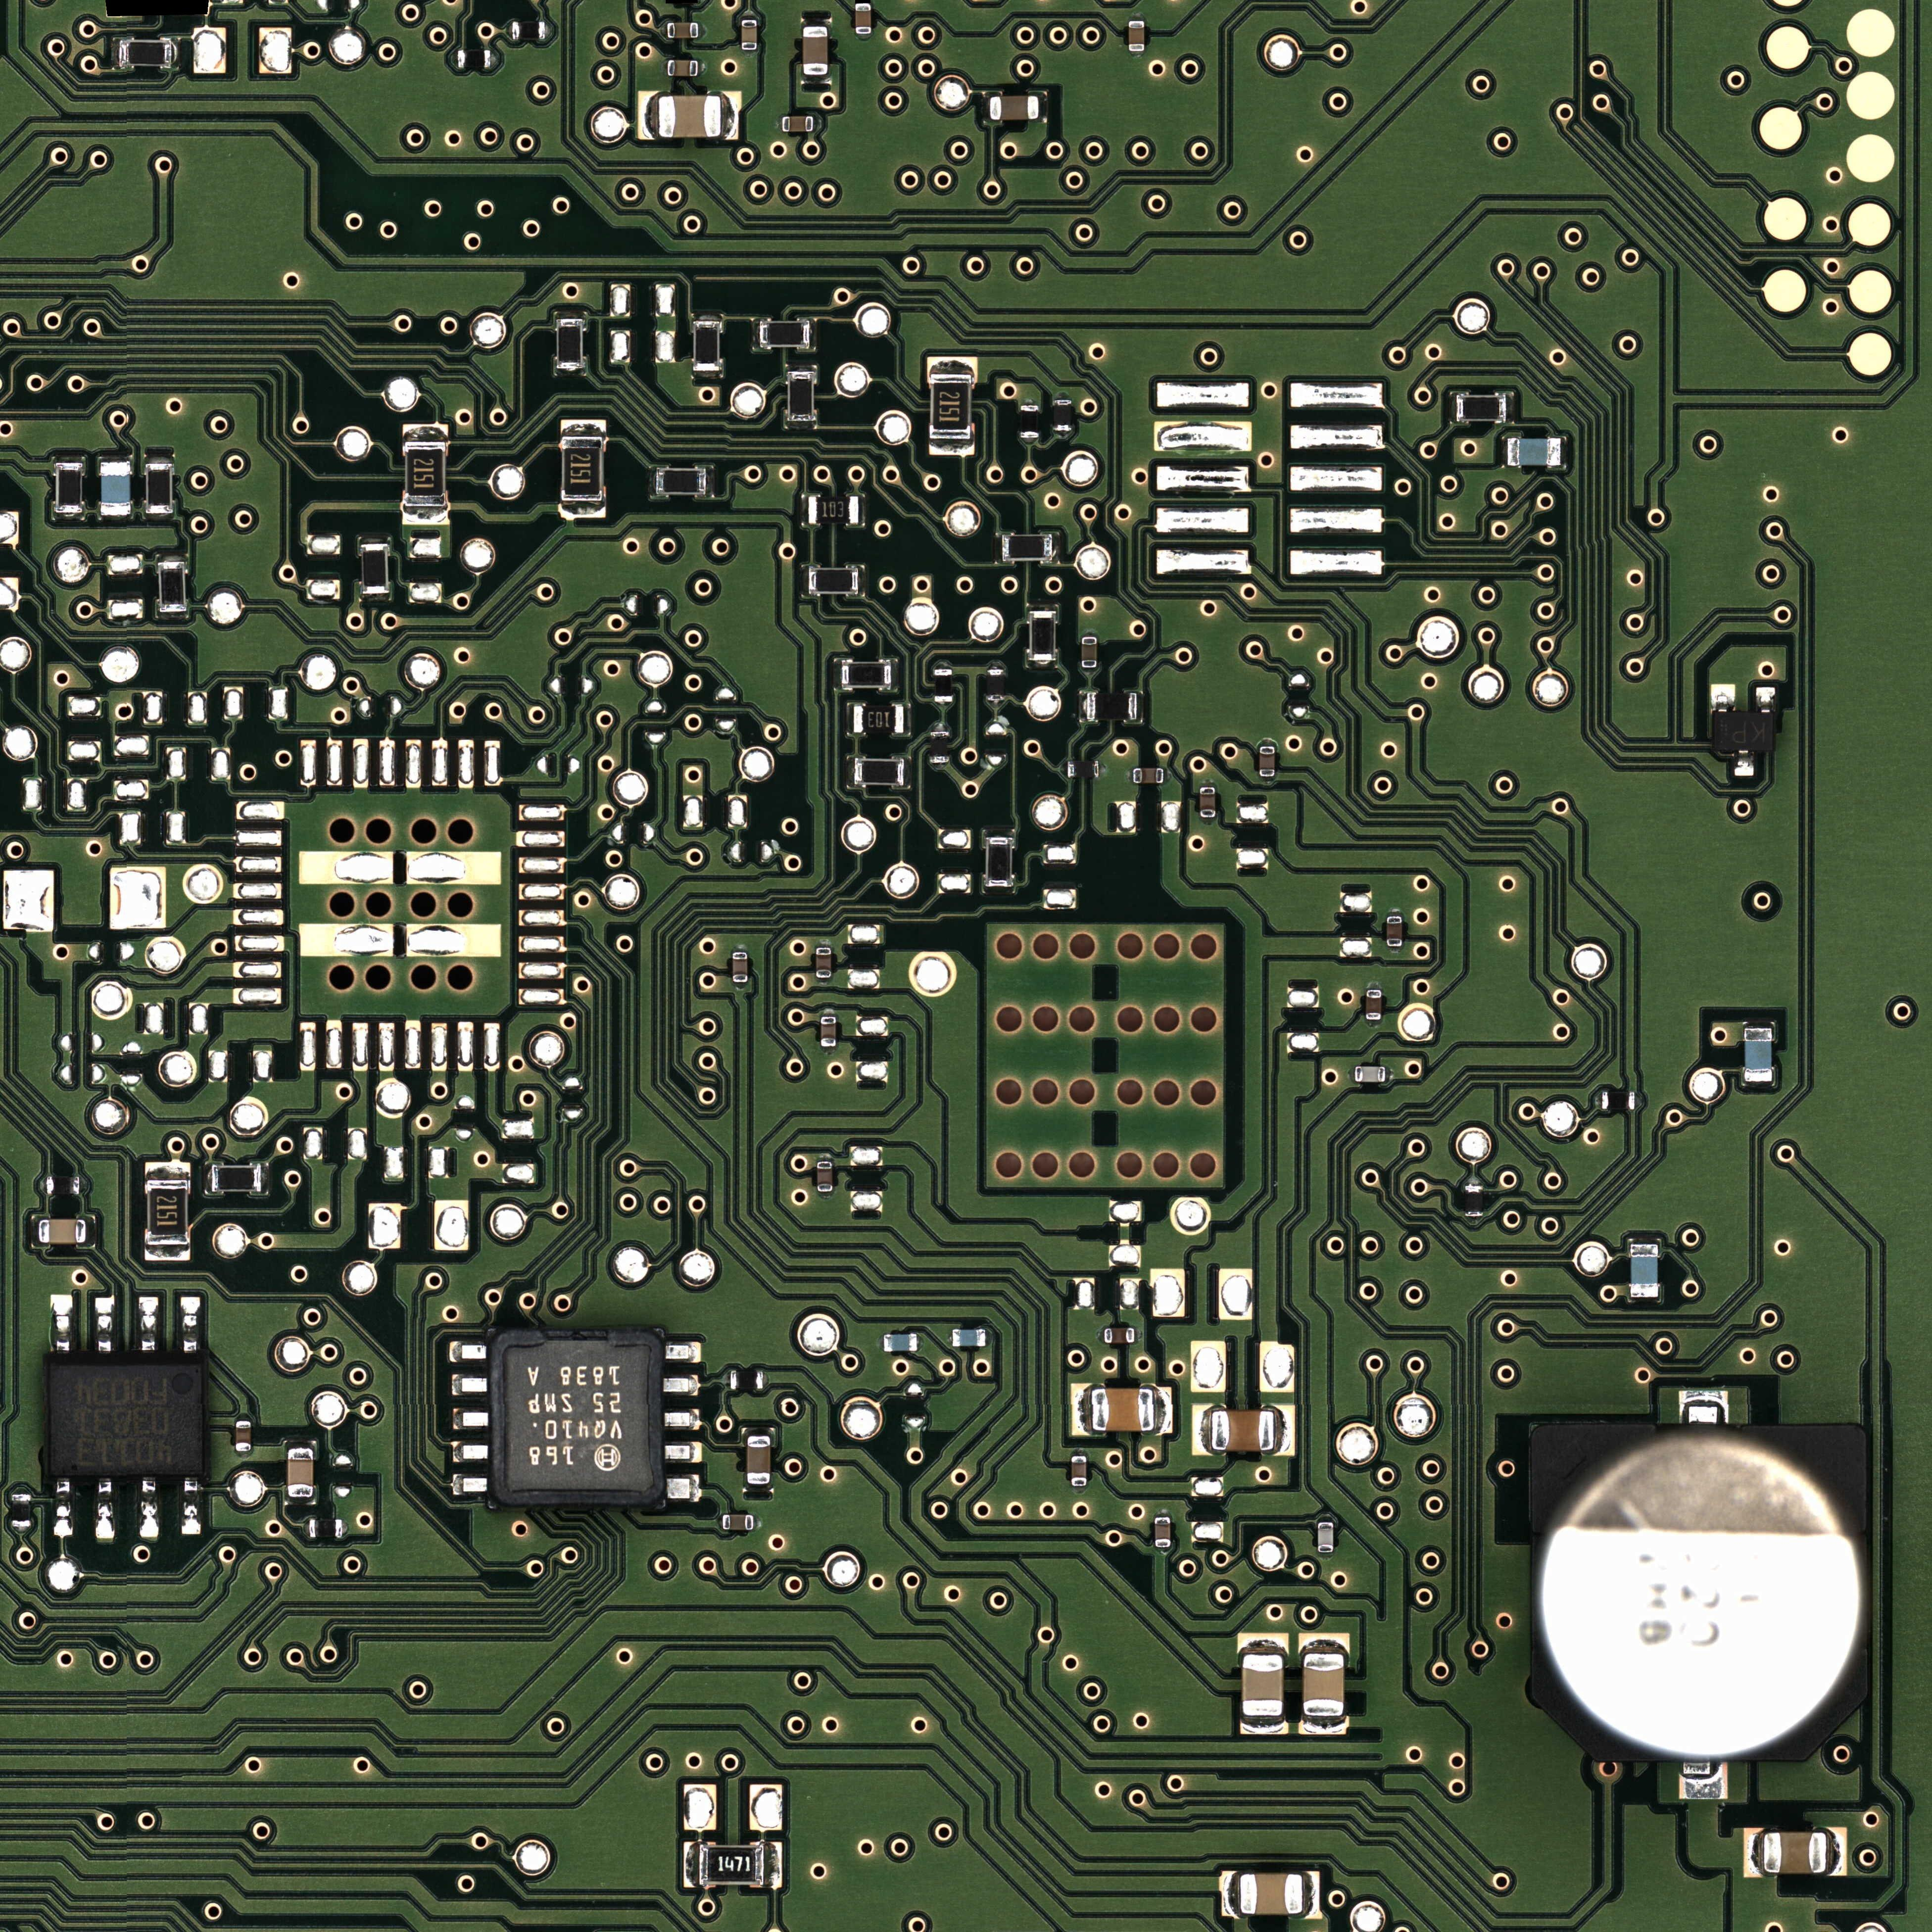Package: (1531, 1425, 1872, 1760), (489, 1331, 664, 1505), (48, 1364, 205, 1476), (930, 374, 971, 439), (404, 442, 445, 506), (146, 1180, 188, 1245), (1091, 1389, 1154, 1431), (562, 436, 602, 501), (699, 1844, 764, 1885), (1763, 1833, 1827, 1873), (1242, 1654, 1283, 1716), (1303, 1653, 1344, 1716), (1211, 1410, 1274, 1451), (659, 96, 721, 137), (1240, 1874, 1303, 1914), (1713, 713, 1774, 751), (101, 462, 130, 515), (1745, 1028, 1772, 1081), (1507, 438, 1560, 465), (1631, 1245, 1658, 1297), (854, 705, 904, 733), (809, 496, 859, 524), (1087, 693, 1136, 721), (120, 40, 171, 66), (211, 1165, 261, 1192), (1003, 535, 1052, 561), (1457, 395, 1506, 421), (760, 322, 810, 347), (362, 544, 387, 593), (160, 562, 185, 612), (842, 662, 891, 688), (288, 1449, 313, 1497), (147, 463, 172, 513), (657, 469, 706, 494), (788, 372, 814, 421), (56, 463, 81, 512), (1030, 611, 1055, 660), (990, 96, 1039, 120), (987, 837, 1011, 887), (809, 569, 858, 593), (855, 760, 904, 784), (557, 319, 581, 368), (803, 27, 827, 75), (695, 321, 719, 371), (39, 1219, 86, 1244), (747, 1436, 771, 1484), (730, 1370, 764, 1390), (458, 49, 490, 69), (12, 1494, 31, 1527), (512, 21, 545, 40), (934, 669, 953, 702), (309, 1519, 342, 1538), (46, 1177, 80, 1195), (1020, 405, 1039, 438), (884, 1334, 917, 1352), (1602, 1092, 1635, 1110), (952, 1329, 986, 1347), (1465, 1185, 1483, 1217), (986, 669, 1004, 701), (930, 731, 948, 763), (1054, 399, 1072, 431), (1067, 761, 1099, 778), (723, 1514, 754, 1530), (668, 60, 698, 76), (1128, 21, 1145, 51), (1355, 1066, 1385, 1082), (668, 22, 698, 38), (236, 1421, 251, 1451), (1387, 916, 1402, 946), (1082, 637, 1097, 668), (741, 20, 757, 49), (1259, 747, 1275, 776), (1155, 1517, 1170, 1547), (1366, 990, 1382, 1019), (782, 116, 813, 132), (817, 947, 832, 977), (732, 952, 748, 982), (1133, 768, 1163, 783), (818, 1161, 833, 1191), (1200, 787, 1215, 817), (1105, 1328, 1134, 1343), (1318, 1522, 1333, 1552), (1071, 1456, 1087, 1486), (821, 1017, 836, 1047), (856, 4, 870, 34), (918, 1387, 924, 1424)
Solder: (1679, 1763, 1727, 1799), (1679, 1390, 1728, 1422), (53, 1480, 73, 1539), (52, 1294, 72, 1353), (95, 1480, 114, 1540), (181, 1479, 201, 1536), (140, 1479, 159, 1539), (181, 1296, 200, 1353), (96, 1297, 114, 1353), (139, 1297, 157, 1352), (1071, 1383, 1090, 1436), (1238, 1635, 1288, 1654), (1744, 1828, 1764, 1878), (1299, 1634, 1350, 1653), (1275, 1405, 1295, 1455), (1827, 1827, 1846, 1876), (666, 1475, 700, 1501), (638, 91, 657, 140), (1192, 1405, 1210, 1455), (722, 92, 739, 140), (1300, 1716, 1348, 1734), (402, 507, 449, 525), (1155, 1387, 1172, 1434), (1240, 1716, 1287, 1734), (765, 1842, 782, 1888), (1221, 1871, 1239, 1917), (928, 357, 976, 373), (663, 1375, 700, 1396), (1304, 1871, 1320, 1919), (452, 1475, 488, 1496), (665, 1408, 701, 1430), (403, 424, 448, 441), (145, 1162, 191, 1179), (453, 1408, 489, 1429), (560, 419, 606, 435), (451, 1375, 487, 1396), (666, 1341, 701, 1362), (450, 1342, 487, 1362), (452, 1442, 489, 1462), (665, 1442, 702, 1462), (929, 440, 974, 456), (560, 503, 606, 519), (1710, 684, 1736, 712), (145, 1246, 191, 1261), (683, 1842, 698, 1888), (1734, 750, 1754, 776), (1756, 687, 1775, 713), (86, 1216, 95, 1247), (284, 1440, 316, 1449), (144, 454, 175, 463), (801, 75, 832, 84), (284, 1497, 316, 1505), (742, 1427, 774, 1435), (743, 1484, 773, 1493), (1052, 532, 1061, 562), (111, 38, 119, 69), (172, 38, 180, 69), (706, 466, 714, 497), (1560, 436, 1568, 469), (1628, 1236, 1661, 1244), (261, 1163, 269, 1194), (801, 565, 809, 596), (984, 828, 1015, 837), (156, 612, 189, 620), (834, 658, 842, 690), (1039, 92, 1047, 122), (1027, 660, 1057, 669), (993, 534, 1001, 564), (1741, 1081, 1775, 1089), (53, 455, 85, 463), (31, 1216, 39, 1247), (786, 421, 817, 429), (847, 757, 855, 787), (157, 554, 188, 562), (204, 1163, 212, 1193), (752, 319, 760, 349), (1506, 392, 1514, 424), (360, 594, 390, 602), (786, 364, 816, 372), (98, 455, 132, 462), (52, 513, 84, 521), (891, 659, 898, 690), (904, 704, 911, 735), (1449, 392, 1456, 423), (692, 371, 722, 379), (801, 18, 830, 26), (1027, 603, 1058, 611), (1628, 1297, 1661, 1304), (360, 536, 390, 543), (982, 93, 990, 123), (1500, 436, 1507, 468), (810, 319, 817, 349), (649, 467, 656, 496), (858, 566, 866, 596), (846, 704, 854, 734), (556, 311, 585, 318), (1079, 691, 1086, 723), (490, 48, 500, 70), (144, 514, 174, 521), (859, 495, 866, 526), (984, 887, 1014, 894), (448, 48, 458, 69), (693, 313, 722, 321), (801, 495, 808, 525), (904, 757, 911, 787), (1743, 1021, 1774, 1028), (99, 515, 132, 522), (1137, 691, 1143, 723), (556, 369, 584, 376), (1464, 1217, 1484, 1225), (545, 21, 554, 40), (1464, 1178, 1483, 1186), (505, 21, 512, 41), (80, 1176, 87, 1195), (12, 1487, 31, 1494), (236, 1413, 252, 1421), (1635, 1092, 1642, 1111), (754, 1514, 761, 1531), (40, 1177, 47, 1195), (1053, 431, 1072, 437), (1595, 1091, 1601, 1110), (1054, 393, 1071, 400), (12, 1527, 31, 1533), (1318, 1514, 1333, 1522), (813, 115, 820, 132), (931, 724, 948, 731), (988, 662, 1005, 669), (1020, 399, 1038, 405), (1200, 779, 1215, 787), (697, 59, 704, 76), (763, 1371, 769, 1390), (1155, 1510, 1170, 1517), (724, 1371, 730, 1389), (303, 1520, 310, 1537), (935, 662, 952, 669), (1259, 739, 1275, 746), (1071, 1449, 1087, 1455), (856, 35, 873, 41), (1061, 761, 1067, 777), (1135, 1327, 1141, 1344), (342, 1520, 348, 1538), (1081, 668, 1097, 674), (1071, 1487, 1087, 1493), (987, 701, 1004, 707), (698, 23, 704, 38), (716, 1515, 723, 1530), (1127, 768, 1134, 783), (1020, 438, 1038, 443), (1386, 1067, 1393, 1081), (917, 1335, 923, 1350), (1099, 762, 1106, 777), (662, 60, 668, 76), (1081, 631, 1097, 637), (1318, 1553, 1334, 1559), (931, 763, 948, 768), (236, 1451, 251, 1457), (776, 116, 782, 131), (878, 1335, 884, 1351), (742, 13, 756, 20), (1129, 15, 1144, 21), (1163, 769, 1169, 783), (947, 1330, 952, 1346), (1388, 909, 1401, 916), (935, 702, 952, 707), (985, 1331, 991, 1346), (1099, 1328, 1105, 1343), (1155, 1547, 1170, 1553), (817, 942, 831, 948), (1260, 776, 1274, 782), (1367, 984, 1381, 990), (1365, 1020, 1381, 1025), (662, 24, 667, 38), (733, 947, 747, 952), (742, 49, 756, 54), (1201, 818, 1215, 822), (1350, 1068, 1355, 1081), (733, 982, 747, 987), (818, 1192, 831, 1197), (1129, 51, 1144, 56), (819, 1156, 830, 1161), (821, 1047, 835, 1051), (1388, 946, 1401, 951), (817, 977, 830, 982), (822, 1012, 834, 1016)
